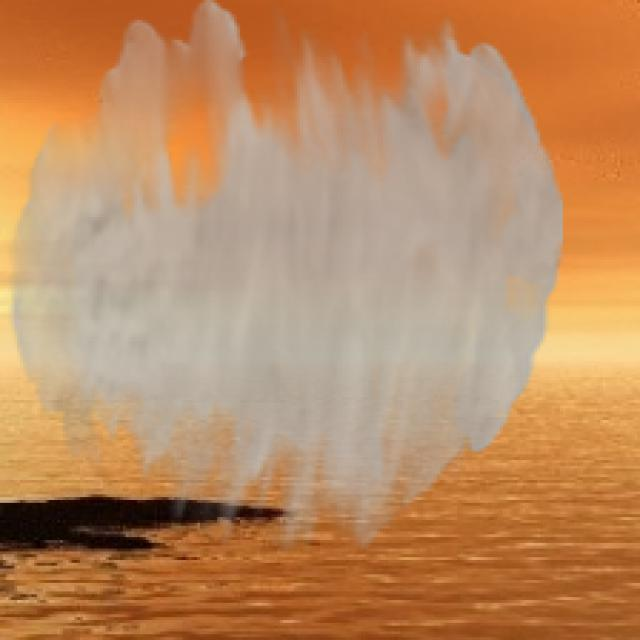smoke: (8, 0, 563, 555)
